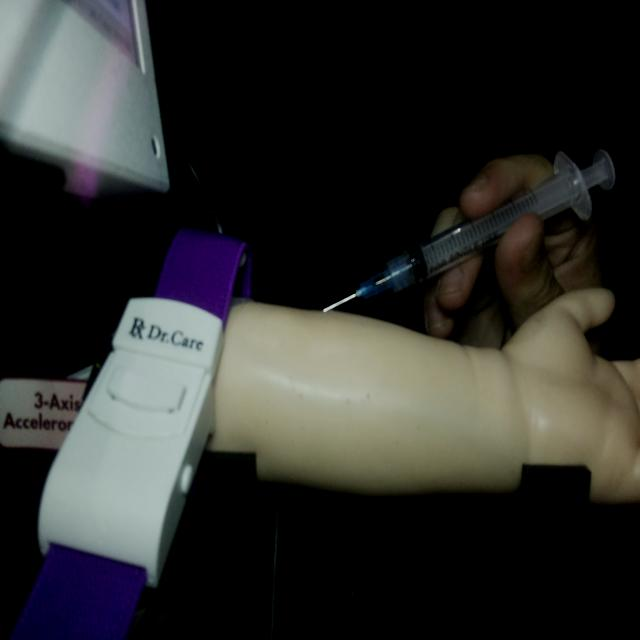18 degrees: (321, 144, 617, 315)
